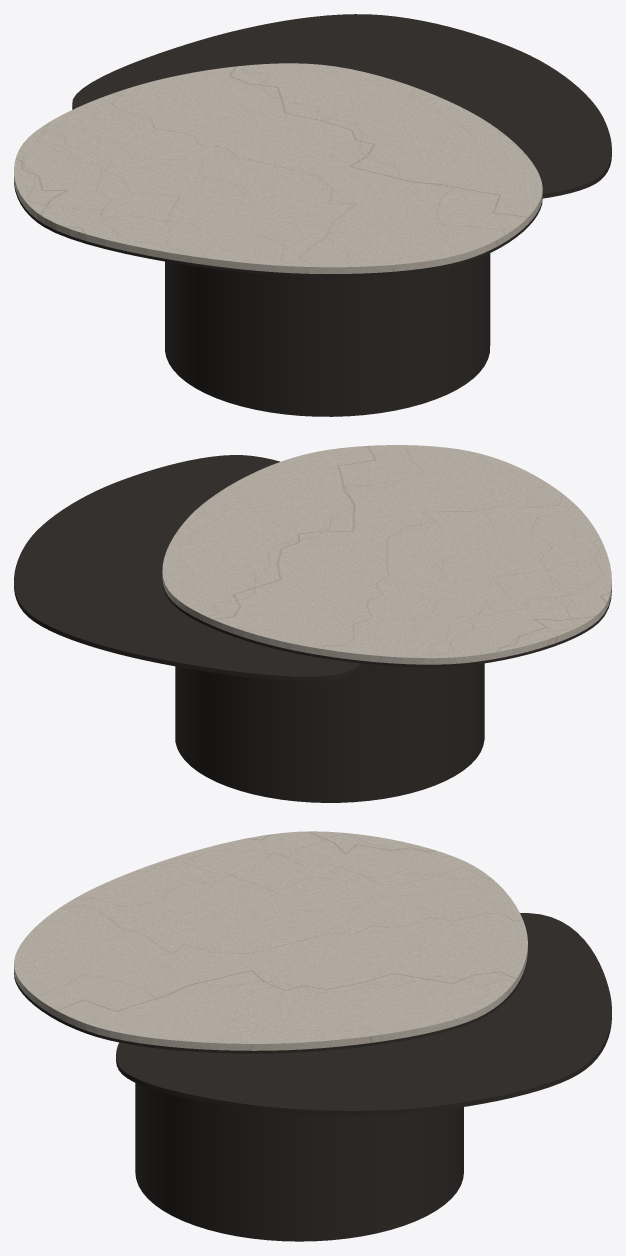
File: ownDorn.glb
3 views of the same model, one above another, from view 1: azimuth 30°, elevation 25°; view 2: azimuth 150°, elevation 25°; view 3: azimuth 270°, elevation 25° (orthographic). The views are drawn at different scales.
Bounding box in the file's own units: 1 × 0.35 × 0.9431.
Materials: 2 (1 with a texture image).
